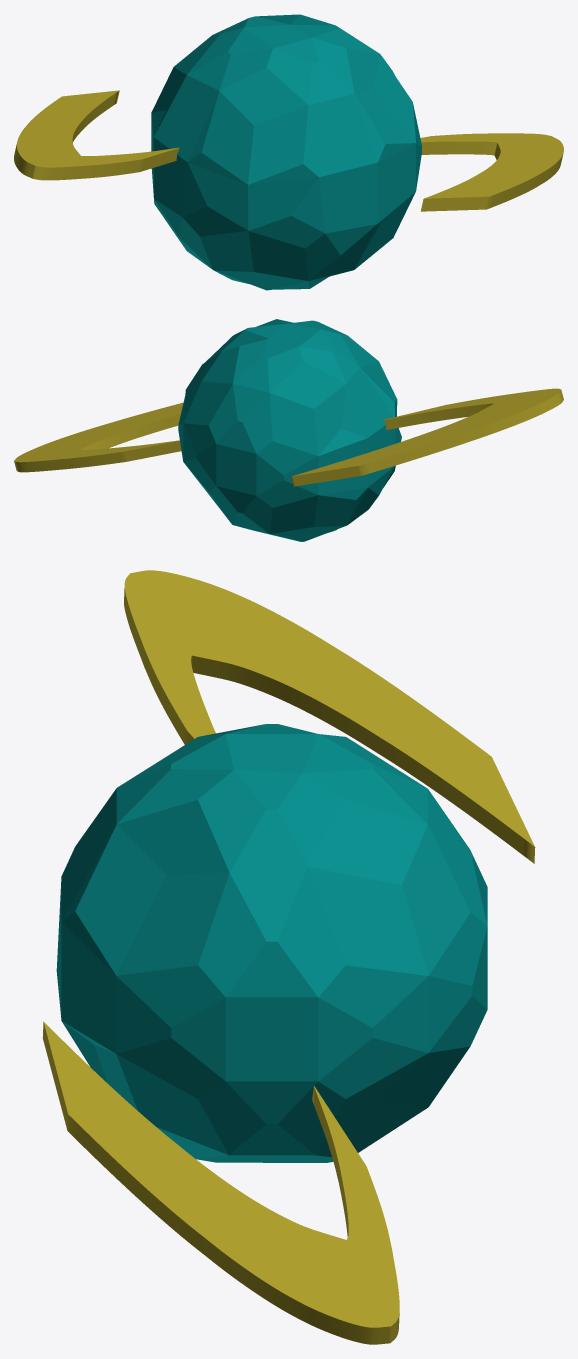
The model's file is planetColored.glb.
3 views of the same model, one above another, from view 1: azimuth 30°, elevation 25°; view 2: azimuth 150°, elevation 25°; view 3: azimuth 270°, elevation 25° (orthographic). The views are drawn at different scales.
Parts seen in each view (by area): view 1: Sphere, path3013.002; view 2: Sphere, path3013.002; view 3: Sphere, path3013.002.
Part boxes in pixels (x1=…): Sphere: x1=151, y1=14, x2=421, y2=290; path3013.002: x1=14, y1=90, x2=563, y2=211; Sphere: x1=178, y1=319, x2=401, y2=541; path3013.002: x1=14, y1=388, x2=563, y2=486; Sphere: x1=56, y1=724, x2=487, y2=1162; path3013.002: x1=42, y1=570, x2=535, y2=1344.
Bounding box in the file's own units: 4.99 × 1.9 × 2.18.
